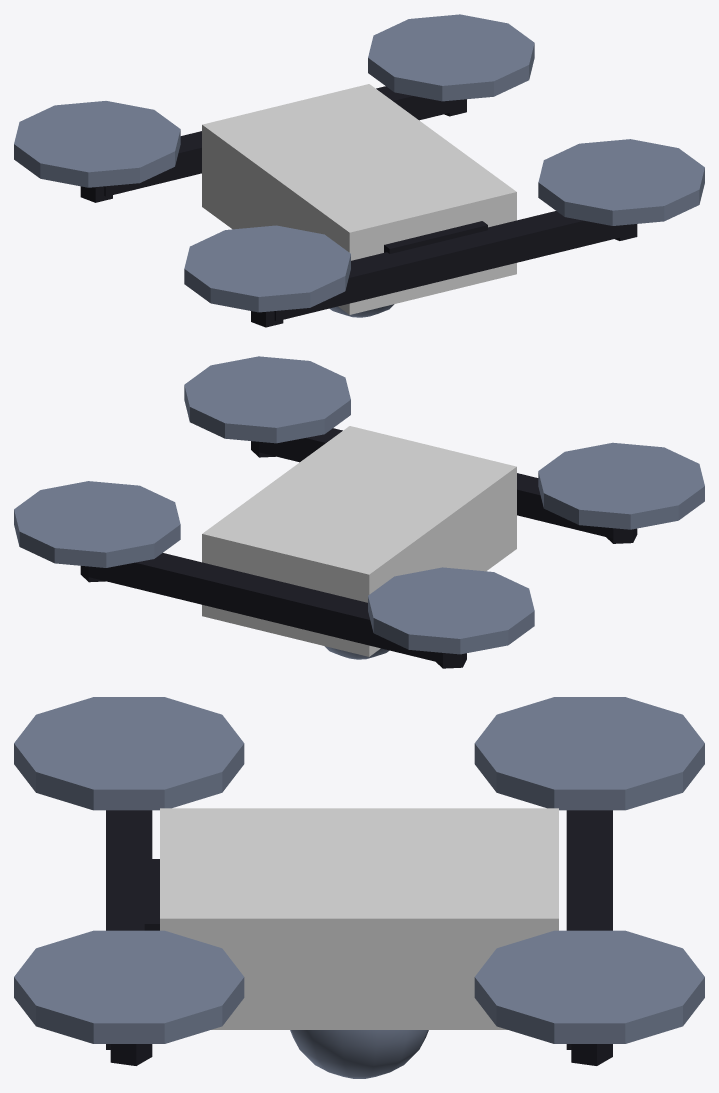
File: Enemy_drone.fbx
3 renders of one model, top to bottom at view 1: azimuth 30°, elevation 25°; view 2: azimuth 150°, elevation 25°; view 3: azimuth 270°, elevation 25°, orthographic. The views are drawn at different scales.
Parts seen in each view (by area): view 1: Enemy_drone; view 2: Enemy_drone; view 3: Enemy_drone.
Part boxes in pixels (<box>): Enemy_drone: <box>14,14,704,327</box>; Enemy_drone: <box>14,356,704,668</box>; Enemy_drone: <box>14,697,704,1078</box>.
Bounding box in the file's own units: 1.01 × 0.305 × 0.9.
